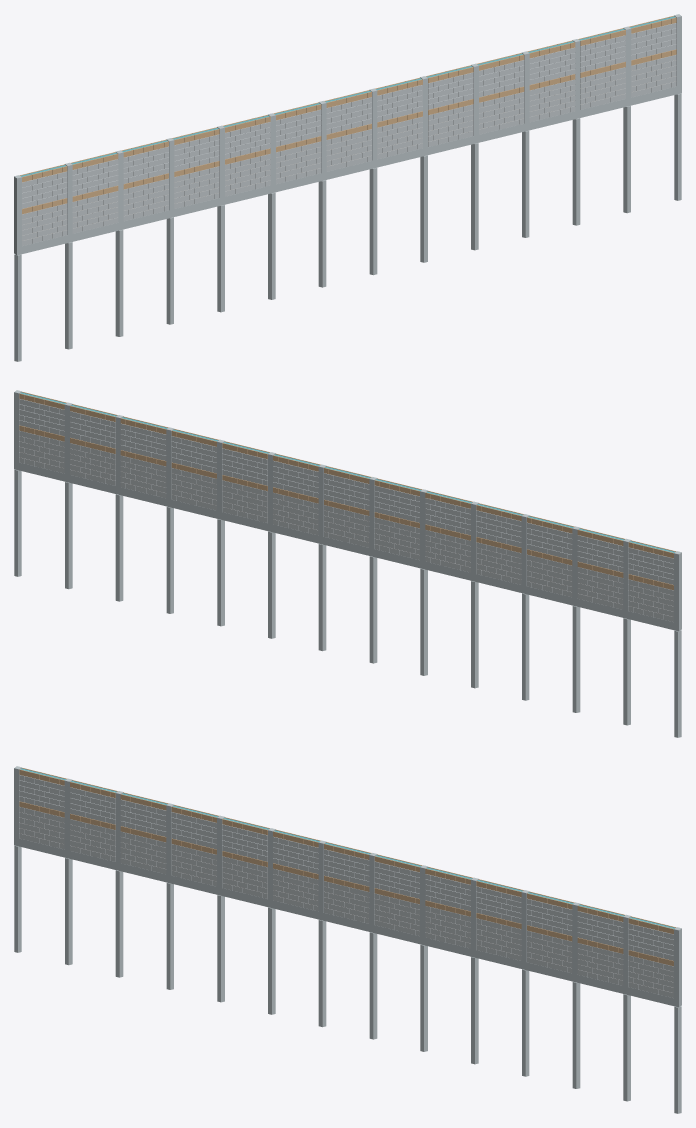
Rendered from muro-r11.glb.
3 views of the same model, one above another, from view 1: azimuth 30°, elevation 25°; view 2: azimuth 150°, elevation 25°; view 3: azimuth 330°, elevation 25° (orthographic).
Visible parts, largest first — view 1: blocks, piles, channels, columns, beam, grout, mortar; view 2: blocks, piles, channels, columns, beam, grout, mortar; view 3: blocks, piles, channels, columns, beam, grout, mortar.
Part boxes in pixels (x1=…): blocks: x1=22, y1=23, x2=676, y2=245; piles: x1=14, y1=93, x2=681, y2=361; channels: x1=20, y1=15, x2=676, y2=214; columns: x1=14, y1=14, x2=681, y2=247; beam: x1=14, y1=85, x2=681, y2=255; grout: x1=21, y1=16, x2=675, y2=176; mortar: x1=22, y1=55, x2=675, y2=240; blocks: x1=19, y1=399, x2=673, y2=621; piles: x1=14, y1=469, x2=681, y2=737; channels: x1=19, y1=391, x2=675, y2=590; columns: x1=14, y1=390, x2=681, y2=623; beam: x1=14, y1=461, x2=681, y2=631; grout: x1=20, y1=392, x2=674, y2=552; mortar: x1=20, y1=431, x2=673, y2=616; blocks: x1=19, y1=775, x2=673, y2=997; piles: x1=14, y1=845, x2=681, y2=1113; channels: x1=19, y1=767, x2=675, y2=966; columns: x1=14, y1=766, x2=681, y2=999; beam: x1=14, y1=837, x2=681, y2=1007; grout: x1=20, y1=768, x2=674, y2=928; mortar: x1=20, y1=807, x2=673, y2=992.
Size of the model in its own units: 26.3 by 6.9 by 0.2598.
